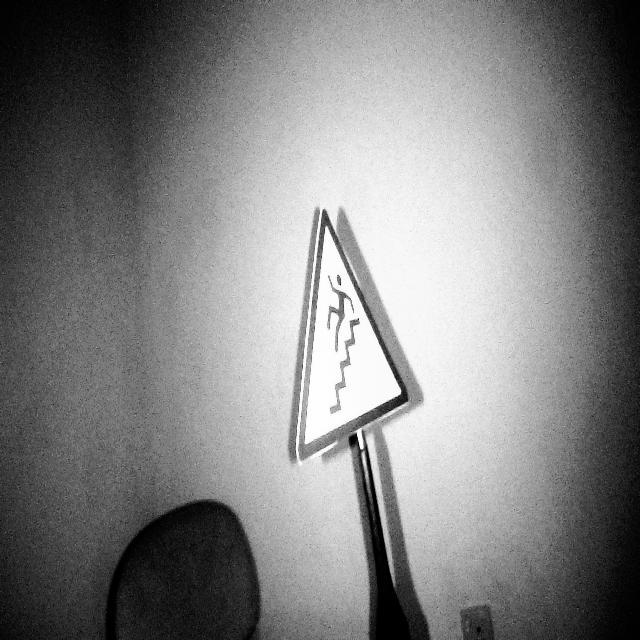Sign: (294, 203, 410, 469)
